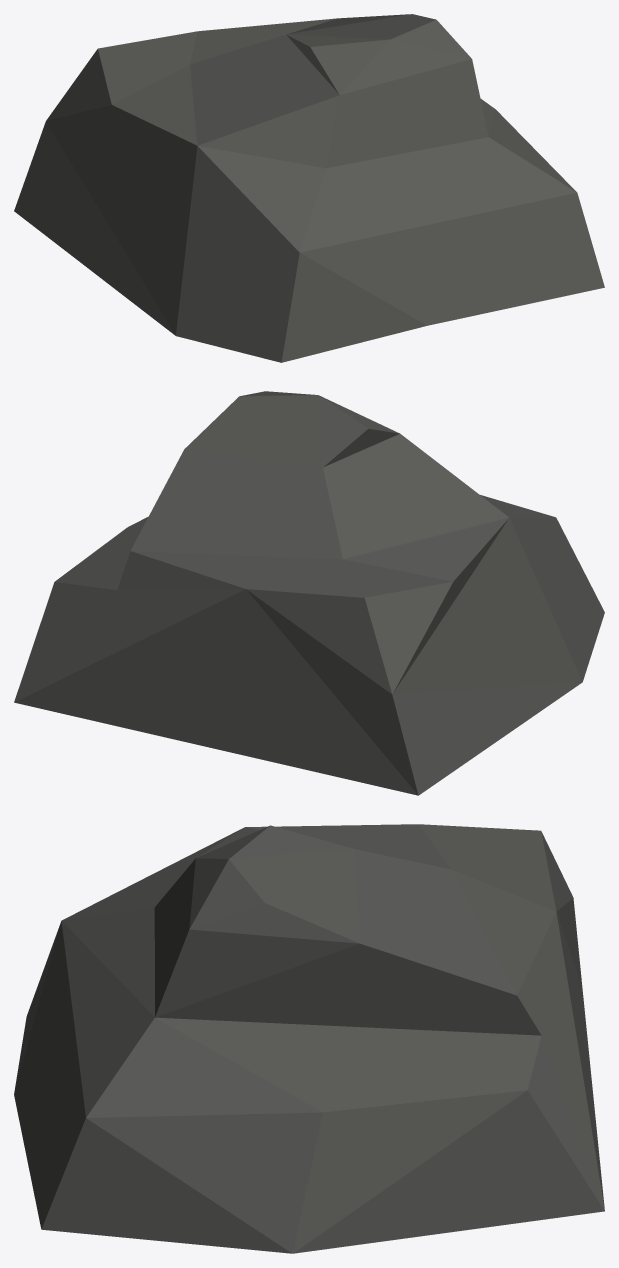
The model's file is SM_Envr_Nature_Rock_11.fbx.
The picture shows the model from 3 angles, top to bottom: view 1: azimuth 30°, elevation 25°; view 2: azimuth 150°, elevation 25°; view 3: azimuth 270°, elevation 25°; orthographic projection. The views are drawn at different scales.
Visible parts, largest first — view 1: SM_Envr_Nature_Rock_11; view 2: SM_Envr_Nature_Rock_11; view 3: SM_Envr_Nature_Rock_11.
Part boxes in pixels (<box>): SM_Envr_Nature_Rock_11: <box>14,14,604,362</box>; SM_Envr_Nature_Rock_11: <box>14,391,604,795</box>; SM_Envr_Nature_Rock_11: <box>14,824,604,1253</box>.
Size of the model in its own units: 241 by 123 by 231.
